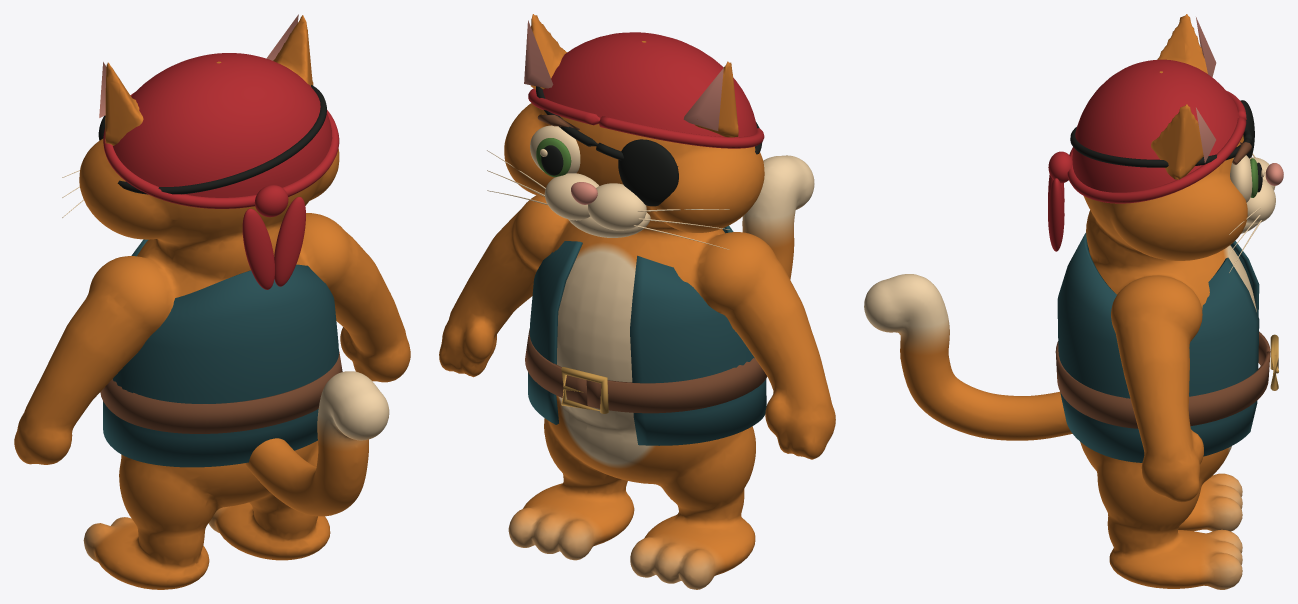
3 renders of one model, left to right at view 1: azimuth 30°, elevation 25°; view 2: azimuth 150°, elevation 25°; view 3: azimuth 270°, elevation 25°, orthographic. The views are drawn at different scales.
Bounding box in the file's own units: 0.9179 × 1.18 × 0.9147.
Materials: 1 (1 with a texture image).
